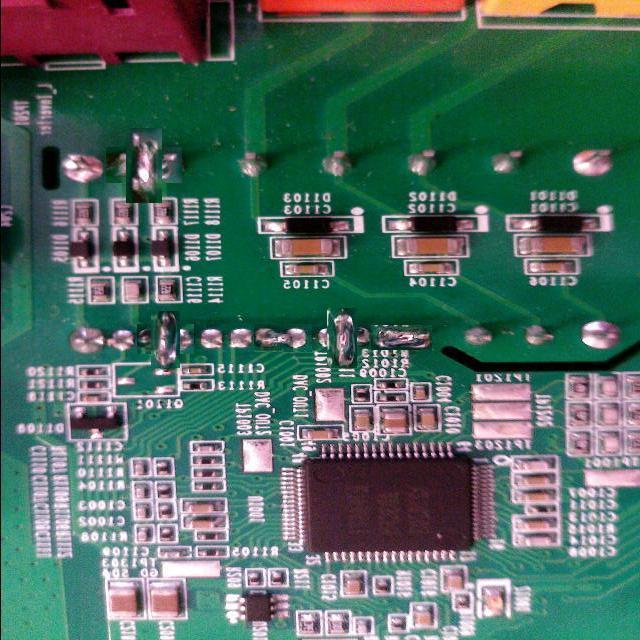Short_circuit: (116, 137, 172, 193), (319, 316, 364, 361), (144, 318, 187, 361), (370, 324, 432, 350), (255, 324, 312, 352)
